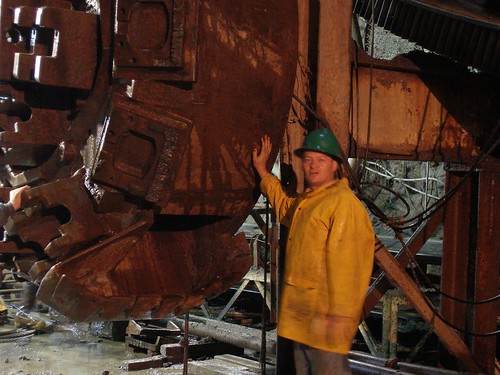person hardhat: (255, 128, 371, 371)
